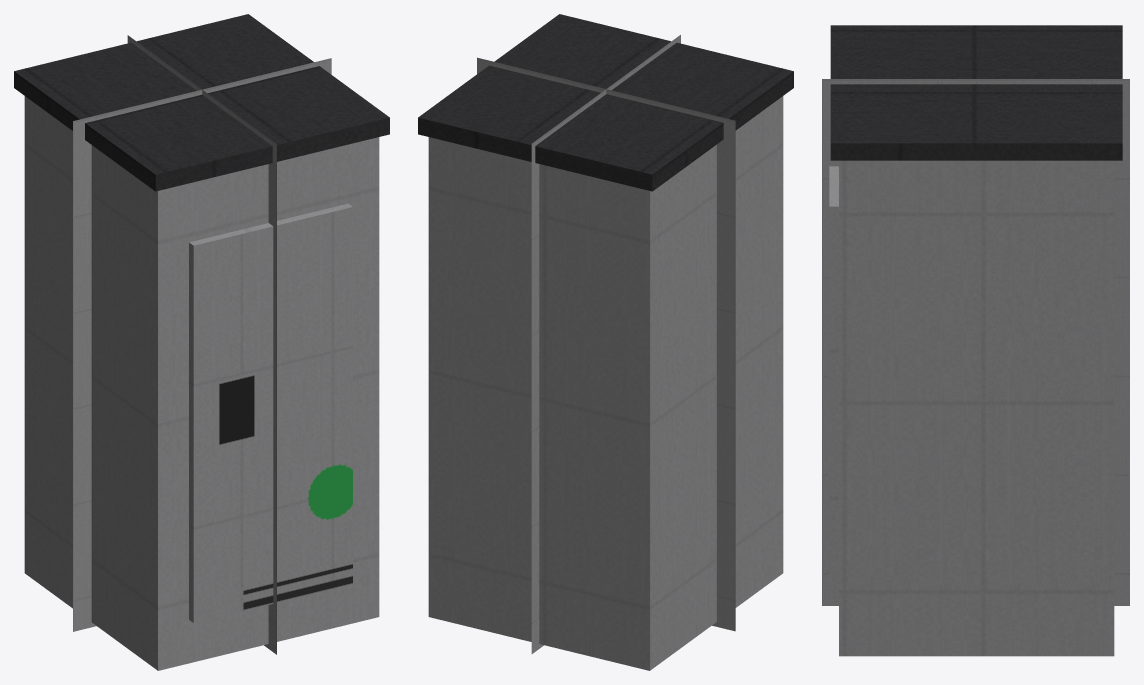
File: portapotty_gray.dae
The picture shows the model from 3 angles, left to right: view 1: azimuth 30°, elevation 25°; view 2: azimuth 150°, elevation 25°; view 3: azimuth 270°, elevation 25°; orthographic projection. The views are drawn at different scales.
Visible parts, largest first — view 1: portapotty_gray_a800, portapotty_gray_a200, portapotty_gray_a50; view 2: portapotty_gray_a800, portapotty_gray_a200, portapotty_gray_a50; view 3: portapotty_gray_a800, portapotty_gray_a200, portapotty_gray_a50.
Part boxes in pixels (bbox=[...]): portapotty_gray_a800: bbox=[14, 14, 389, 670]; portapotty_gray_a200: bbox=[29, 138, 379, 670]; portapotty_gray_a50: bbox=[73, 35, 331, 654]; portapotty_gray_a800: bbox=[418, 14, 793, 670]; portapotty_gray_a200: bbox=[428, 98, 783, 670]; portapotty_gray_a50: bbox=[477, 35, 735, 653]; portapotty_gray_a800: bbox=[829, 25, 1122, 656]; portapotty_gray_a200: bbox=[839, 160, 1111, 656]; portapotty_gray_a50: bbox=[822, 79, 1129, 605].
Size of the model in its own units: 1.29 by 1.29 by 2.43.
Materials: 4 (3 with a texture image).
